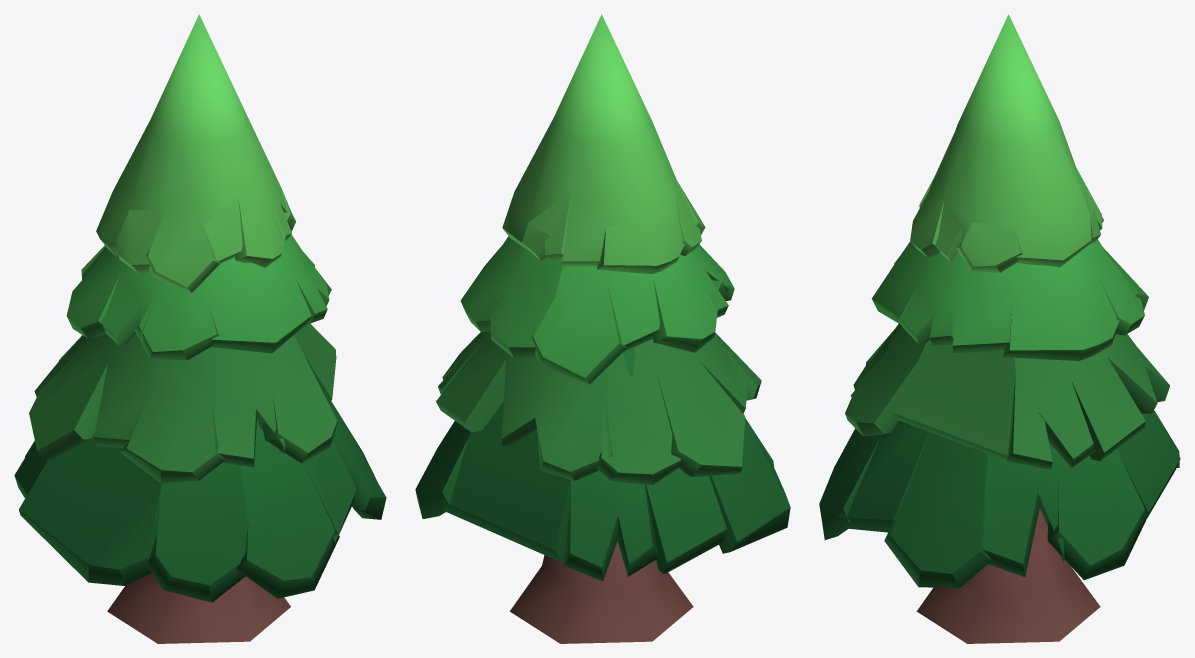
File: Pine_tree_02.fbx
The picture shows the model from 3 angles, left to right: view 1: azimuth 30°, elevation 25°; view 2: azimuth 150°, elevation 25°; view 3: azimuth 270°, elevation 25°; orthographic projection.
Parts seen in each view (by area): view 1: Pine_tree_02Shape; view 2: Pine_tree_02Shape; view 3: Pine_tree_02Shape.
Part boxes in pixels (x1,y1,x2,y2): Pine_tree_02Shape: (14, 14, 386, 643); Pine_tree_02Shape: (415, 14, 790, 643); Pine_tree_02Shape: (819, 14, 1180, 643).
Bounding box in the file's own units: 4.26 × 7.8 × 4.29.
